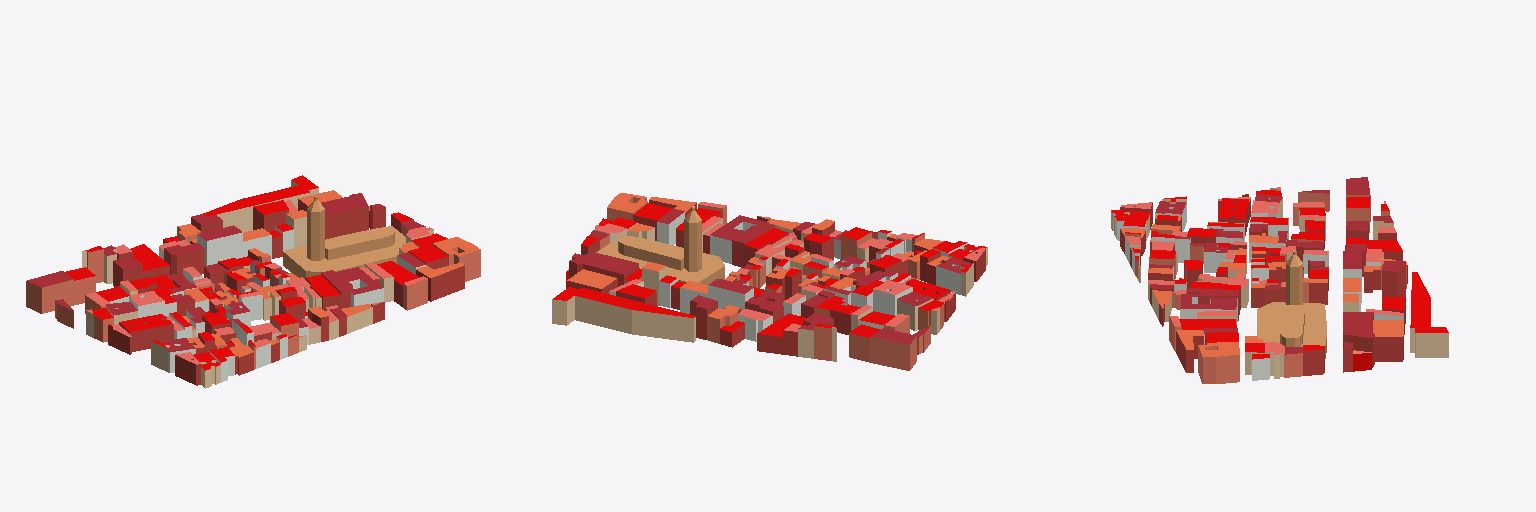
Rendered from SanPabloOffice.obj.
3 renders of one model, left to right at view 1: azimuth 30°, elevation 25°; view 2: azimuth 150°, elevation 25°; view 3: azimuth 270°, elevation 25°, orthographic.
Visible parts, largest first — view 1: object_146, object_147, object_204, object_69, object_148, object_220, object_310, object_227, object_177, object_226, object_266, object_184 (+7 smaller); view 2: object_177, object_147, object_146, object_204, object_69, object_148, object_18, object_310, object_279, object_213, object_287, object_145 (+1 smaller); view 3: object_146, object_184, object_69, object_177, object_147, object_148, object_18, object_273, object_270, object_9, object_227, object_222 (+1 smaller).
Part boxes in pixels (bbox=[...]): object_146: bbox=[283, 226, 405, 278]; object_147: bbox=[325, 228, 394, 259]; object_204: bbox=[26, 279, 73, 313]; object_69: bbox=[203, 175, 318, 215]; object_148: bbox=[307, 196, 324, 260]; object_220: bbox=[306, 206, 368, 239]; object_310: bbox=[197, 232, 242, 265]; object_227: bbox=[416, 265, 464, 301]; object_177: bbox=[217, 180, 318, 232]; object_226: bbox=[119, 318, 173, 351]; object_266: bbox=[164, 248, 204, 274]; object_184: bbox=[432, 243, 480, 281]; object_177: bbox=[552, 296, 695, 342]; object_147: bbox=[618, 236, 683, 270]; object_146: bbox=[596, 238, 724, 284]; object_204: bbox=[870, 336, 916, 370]; object_69: bbox=[553, 287, 695, 317]; object_148: bbox=[684, 206, 701, 271]; object_18: bbox=[570, 252, 638, 274]; object_310: bbox=[708, 285, 753, 310]; object_279: bbox=[873, 287, 912, 315]; object_213: bbox=[814, 326, 831, 360]; object_287: bbox=[710, 222, 756, 263]; object_145: bbox=[567, 269, 616, 288]; object_146: bbox=[1257, 302, 1326, 358]; object_184: bbox=[1198, 346, 1239, 383]; object_69: bbox=[1410, 272, 1448, 332]; object_177: bbox=[1410, 328, 1448, 357]; object_147: bbox=[1280, 305, 1304, 346]; object_148: bbox=[1286, 250, 1302, 304]; object_18: bbox=[1343, 312, 1374, 337]; object_273: bbox=[1375, 336, 1403, 361]; object_270: bbox=[1382, 267, 1405, 302]; object_9: bbox=[1180, 294, 1236, 309]; object_227: bbox=[1176, 331, 1203, 372]; object_222: bbox=[1303, 348, 1324, 375].
Size of the model in its own units: 265 by 51.6 by 209.